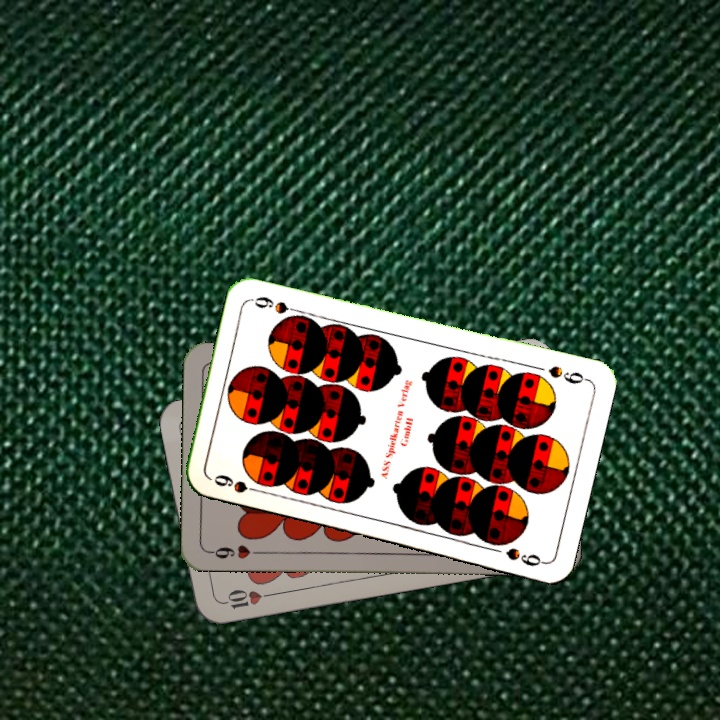H10: (216, 585, 275, 612)
H9: (205, 541, 264, 562)
S9: (210, 470, 266, 496), (544, 361, 591, 387)
